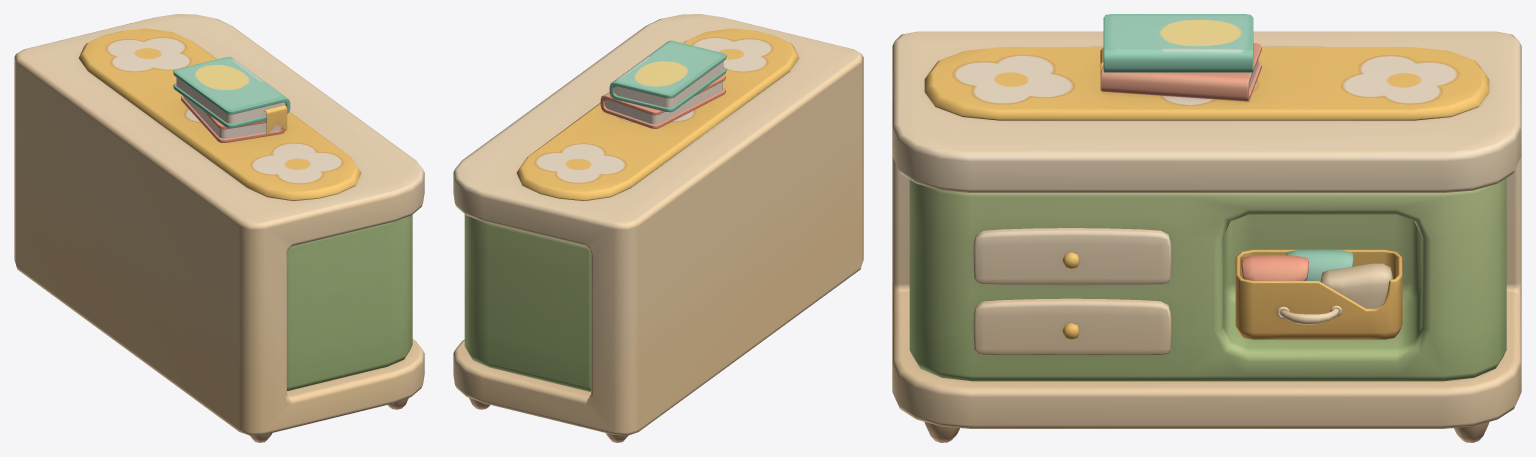
Rendered from drawer.fbx.
3 renders of one model, left to right at view 1: azimuth 30°, elevation 25°; view 2: azimuth 150°, elevation 25°; view 3: azimuth 270°, elevation 25°, orthographic. The views are drawn at different scales.
Parts seen in each view (by area): view 1: Plane, Plane.001, Plane.002, Cube.002, Cube.003, Cube.004; view 2: Plane, Plane.001, Plane.002, Cube.002, Cube.003; view 3: Plane, Plane.001, Plane.002, Cube, Cube.006, Cube.002, Cube.003, Plane.003, Cube.007, Cube.008, Cylinder, Circle.004.
Part boxes in pixels (box(x1,y1,x2,y2)): Plane: box(14, 14, 424, 435); Plane.001: box(287, 215, 412, 390); Plane.002: box(78, 28, 361, 200); Cube.002: box(173, 56, 290, 128); Cube.003: box(181, 95, 285, 142); Cube.004: box(264, 105, 287, 134); Plane: box(453, 14, 863, 435); Plane.001: box(464, 214, 590, 391); Plane.002: box(516, 28, 799, 200); Cube.002: box(609, 40, 726, 112); Cube.003: box(600, 74, 725, 128); Plane: box(892, 31, 1521, 428); Plane.001: box(909, 178, 1506, 381); Plane.002: box(924, 46, 1489, 120); Cube: box(973, 228, 1171, 355); Cube.006: box(1235, 249, 1402, 339); Cube.002: box(1103, 14, 1253, 72); Cube.003: box(1101, 43, 1261, 101); Plane.003: box(1320, 263, 1392, 308); Cube.007: box(1241, 255, 1308, 280); Cube.008: box(1286, 249, 1353, 281); Cylinder: box(924, 422, 1489, 442); Circle.004: box(1276, 305, 1342, 324).
Size of the model in its own units: 68.33 by 90.09 by 143.
